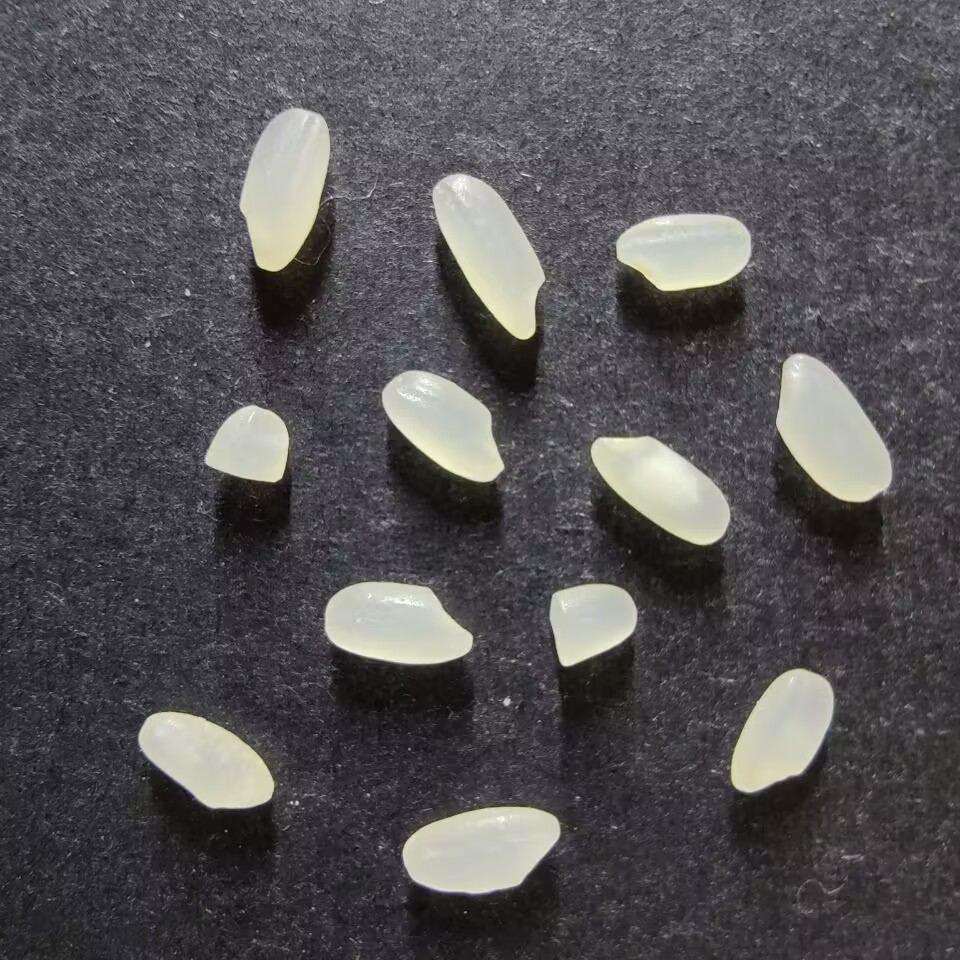broken: (549, 582, 638, 668), (204, 404, 289, 483)
rice: (432, 173, 546, 339), (775, 353, 894, 503), (590, 435, 731, 545), (238, 107, 331, 272), (381, 368, 505, 483), (402, 805, 562, 894), (138, 710, 275, 809), (730, 668, 835, 792), (324, 580, 474, 664), (615, 213, 752, 291)
